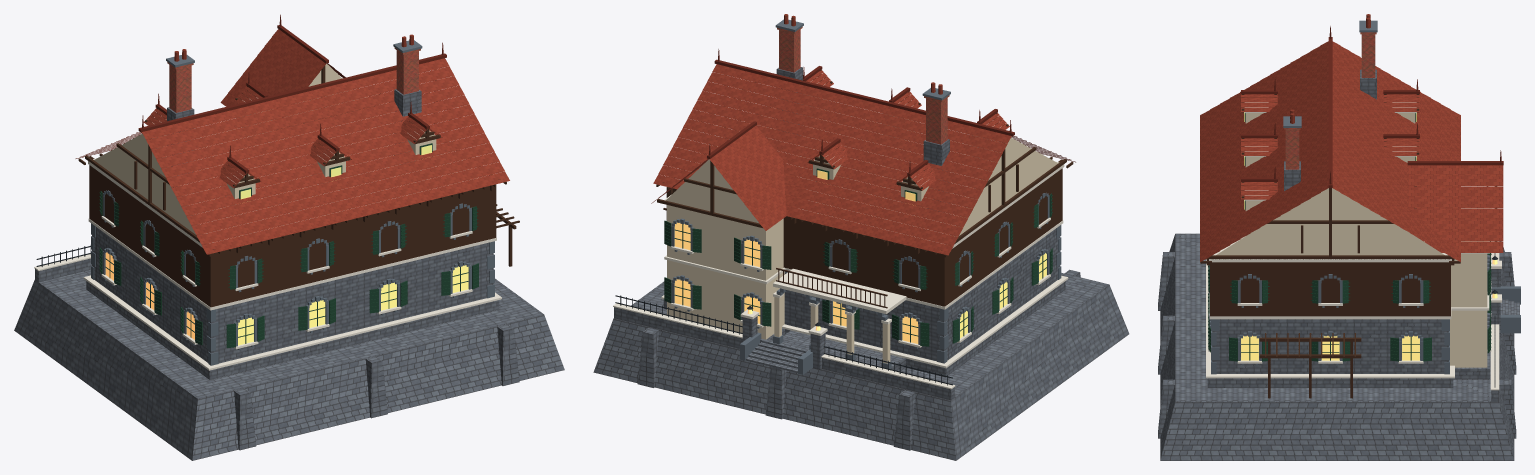
Rendered from fv_nd_07_nguyen_du_villa_25_provence_rose_manor.glb.
3 views of the same model, side by side, from view 1: azimuth 30°, elevation 25°; view 2: azimuth 150°, elevation 25°; view 3: azimuth 270°, elevation 25° (orthographic). The views are drawn at different scales.
Parts seen in each view (by area): view 1: Foundation_Skirt_Neg3p5m, Normandy_Brittany_Layered_Roof, Exposed_Timber_Trusses_And_Rafters, Molded_Cornices_And_Sills, PineGreen_Louvered_Shutters, Stone_Quoins_And_Arches, Villa_Stucco_Walls, Roof_Ridges_Caps_And_Finials, Warm_Night_Windows_20h00_Blend, Brick_Chimney_Stacks; view 2: Foundation_Skirt_Neg3p5m, Normandy_Brittany_Layered_Roof, Exposed_Timber_Trusses_And_Rafters, Villa_Stucco_Walls, Molded_Cornices_And_Sills, Stone_Quoins_And_Arches, PineGreen_Louvered_Shutters, Roof_Ridges_Caps_And_Finials, Warm_Night_Windows_20h00_Blend, Brick_Chimney_Stacks, Wrought_Iron_Balustrades_And_Gate; view 3: Foundation_Skirt_Neg3p5m, Normandy_Brittany_Layered_Roof, Exposed_Timber_Trusses_And_Rafters, Villa_Stucco_Walls, Molded_Cornices_And_Sills, Stone_Quoins_And_Arches, PineGreen_Louvered_Shutters, Roof_Ridges_Caps_And_Finials, Brick_Chimney_Stacks, Warm_Night_Windows_20h00_Blend.
Boxes of the visible parts, x1,y1,x2,y2 form: Foundation_Skirt_Neg3p5m: [14, 89, 564, 460]; Normandy_Brittany_Layered_Roof: [142, 29, 509, 254]; Exposed_Timber_Trusses_And_Rafters: [78, 65, 519, 307]; Molded_Cornices_And_Sills: [34, 96, 501, 370]; PineGreen_Louvered_Shutters: [99, 143, 478, 348]; Stone_Quoins_And_Arches: [91, 40, 494, 365]; Villa_Stucco_Walls: [94, 63, 436, 234]; Roof_Ridges_Caps_And_Finials: [75, 14, 446, 181]; Warm_Night_Windows_20h00_Blend: [105, 145, 468, 345]; Brick_Chimney_Stacks: [167, 47, 420, 112]; Foundation_Skirt_Neg3p5m: [593, 67, 1129, 460]; Normandy_Brittany_Layered_Roof: [653, 14, 1011, 255]; Exposed_Timber_Trusses_And_Rafters: [656, 70, 1073, 308]; Villa_Stucco_Walls: [666, 96, 1057, 363]; Molded_Cornices_And_Sills: [613, 80, 1068, 389]; Stone_Quoins_And_Arches: [671, 19, 1061, 374]; PineGreen_Louvered_Shutters: [664, 168, 1052, 346]; Roof_Ridges_Caps_And_Finials: [651, 49, 1075, 203]; Warm_Night_Windows_20h00_Blend: [674, 170, 1046, 343]; Brick_Chimney_Stacks: [777, 27, 949, 144]; Wrought_Iron_Balustrades_And_Gate: [615, 295, 952, 385]; Foundation_Skirt_Neg3p5m: [1158, 69, 1519, 460]; Normandy_Brittany_Layered_Roof: [1200, 14, 1503, 261]; Exposed_Timber_Trusses_And_Rafters: [1200, 94, 1496, 398]; Villa_Stucco_Walls: [1216, 113, 1487, 367]; Molded_Cornices_And_Sills: [1206, 102, 1501, 390]; Stone_Quoins_And_Arches: [1208, 20, 1520, 374]; PineGreen_Louvered_Shutters: [1208, 113, 1491, 361]; Roof_Ridges_Caps_And_Finials: [1241, 26, 1503, 187]; Brick_Chimney_Stacks: [1284, 32, 1376, 169]; Warm_Night_Windows_20h00_Blend: [1241, 112, 1497, 360].
Bounding box in the file's own units: 26.12 × 20.4 × 21.72.
12 materials, 3 textured.
